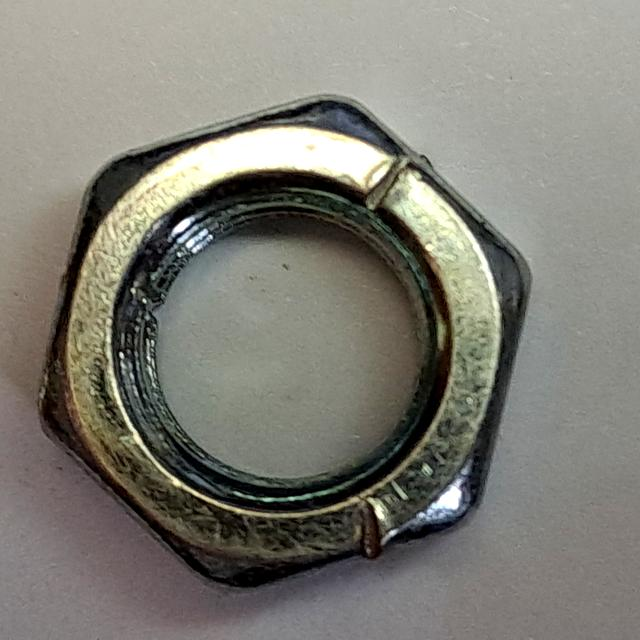Scratches: (28, 85, 543, 610)
